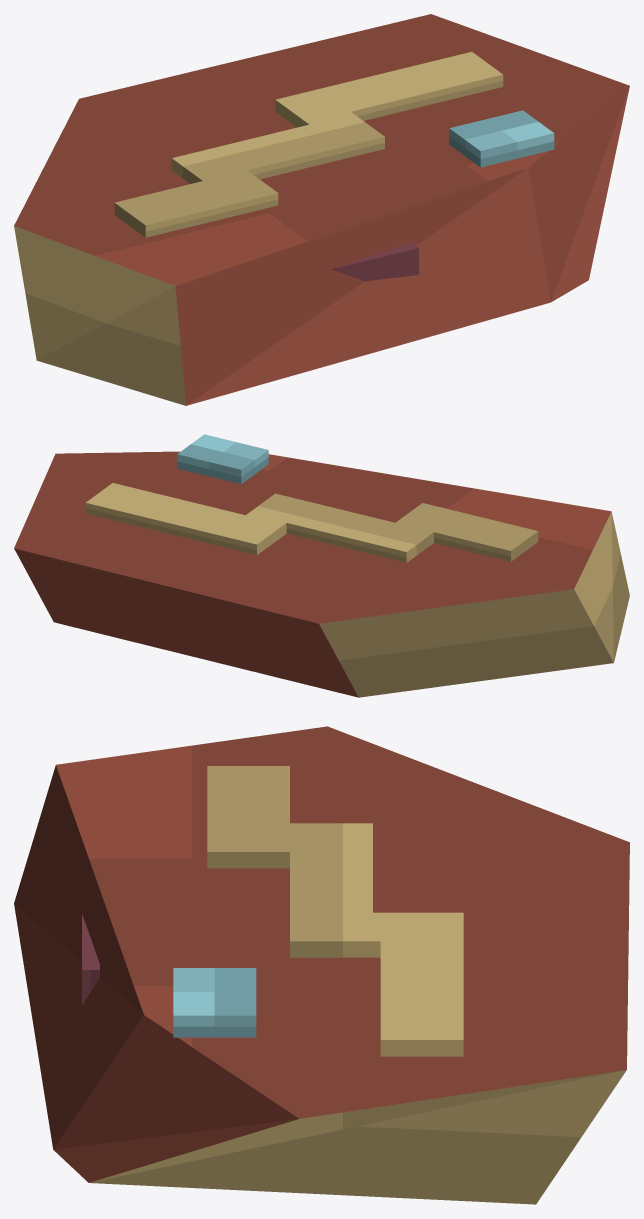
The model's file is qi_chixia_ingot.obj.
The picture shows the model from 3 angles, top to bottom: view 1: azimuth 30°, elevation 25°; view 2: azimuth 150°, elevation 25°; view 3: azimuth 270°, elevation 25°; orthographic projection. The views are drawn at different scales.
Parts seen in each view (by area): view 1: ingot_body, ingot_dawn, ingot_heart, ingot_mineral; view 2: ingot_body, ingot_dawn, ingot_heart; view 3: ingot_body, ingot_dawn, ingot_heart, ingot_mineral.
Boxes of the visible parts, bbox=[...] form: ingot_body: bbox=[14, 14, 629, 405]; ingot_dawn: bbox=[114, 51, 503, 237]; ingot_heart: bbox=[449, 110, 554, 167]; ingot_mineral: bbox=[332, 243, 418, 281]; ingot_body: bbox=[14, 451, 629, 697]; ingot_dawn: bbox=[85, 483, 538, 562]; ingot_heart: bbox=[177, 434, 268, 484]; ingot_body: bbox=[14, 726, 629, 1204]; ingot_dawn: bbox=[207, 766, 463, 1056]; ingot_heart: bbox=[173, 968, 256, 1037]; ingot_mineral: bbox=[82, 914, 99, 1004].
Size of the model in its own units: 0.3922 by 0.0756 by 0.2552.
